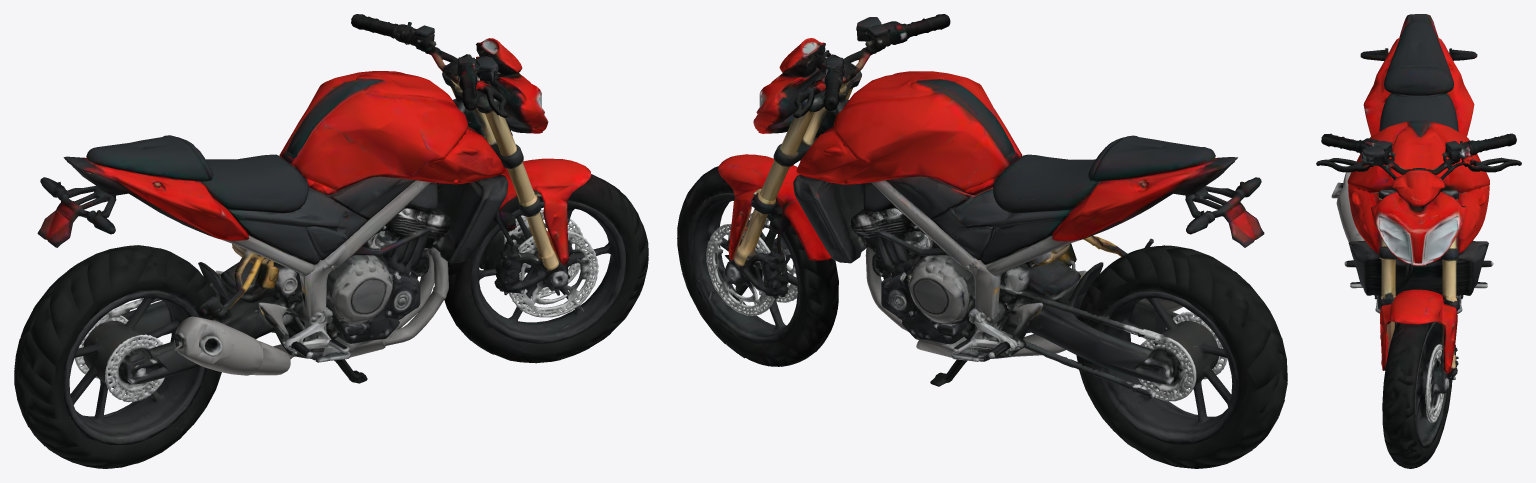
Rendered from bike-low.7d2ab499.glb.
3 renders of one model, left to right at view 1: azimuth 30°, elevation 25°; view 2: azimuth 150°, elevation 25°; view 3: azimuth 270°, elevation 25°, orthographic. The views are drawn at different scales.
Parts seen in each view (by area): view 1: trim_dark (×36), body_paint (×9), chrome_trim (×3), headlight_lens (×2); view 2: trim_dark (×34), body_paint (×9), chrome_trim (×2), headlight_lens; view 3: trim_dark (×17), body_paint (×10), headlight_lens (×2), chrome_trim.
Boxes of the visible parts, left/top/right/bottom form: trim_dark (×36): left=14, top=14, right=648, bottom=468; body_paint (×9): left=63, top=56, right=591, bottom=265; chrome_trim (×3): left=105, top=308, right=348, bottom=402; headlight_lens (×2): left=495, top=210, right=598, bottom=317; trim_dark (×34): left=677, top=14, right=1287, bottom=468; body_paint (×9): left=718, top=68, right=1237, bottom=271; chrome_trim (×2): left=953, top=308, right=1196, bottom=401; headlight_lens: left=706, top=223, right=774, bottom=315; trim_dark (×17): left=1316, top=21, right=1521, bottom=468; body_paint (×10): left=1347, top=14, right=1489, bottom=373; headlight_lens (×2): left=1424, top=218, right=1457, bottom=422; chrome_trim: left=1338, top=191, right=1355, bottom=242.
Bounding box in the file's own units: 2.02 × 1.07 × 0.7142.
102 materials, 102 textured.
